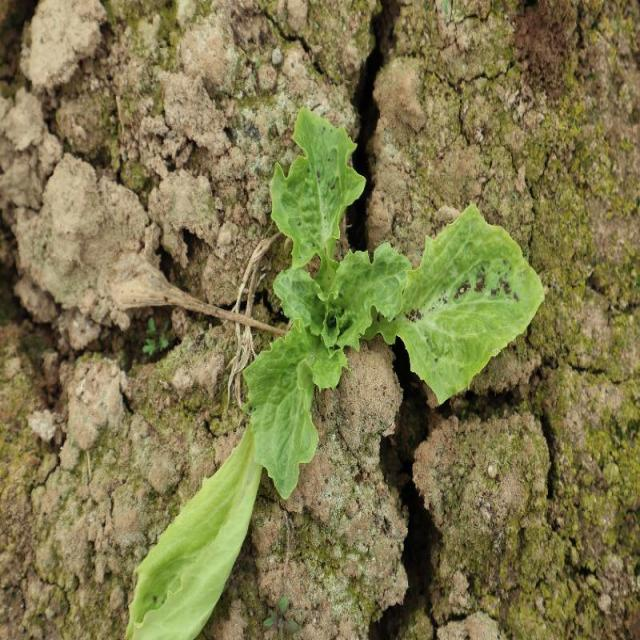crop: (123, 106, 544, 640)
